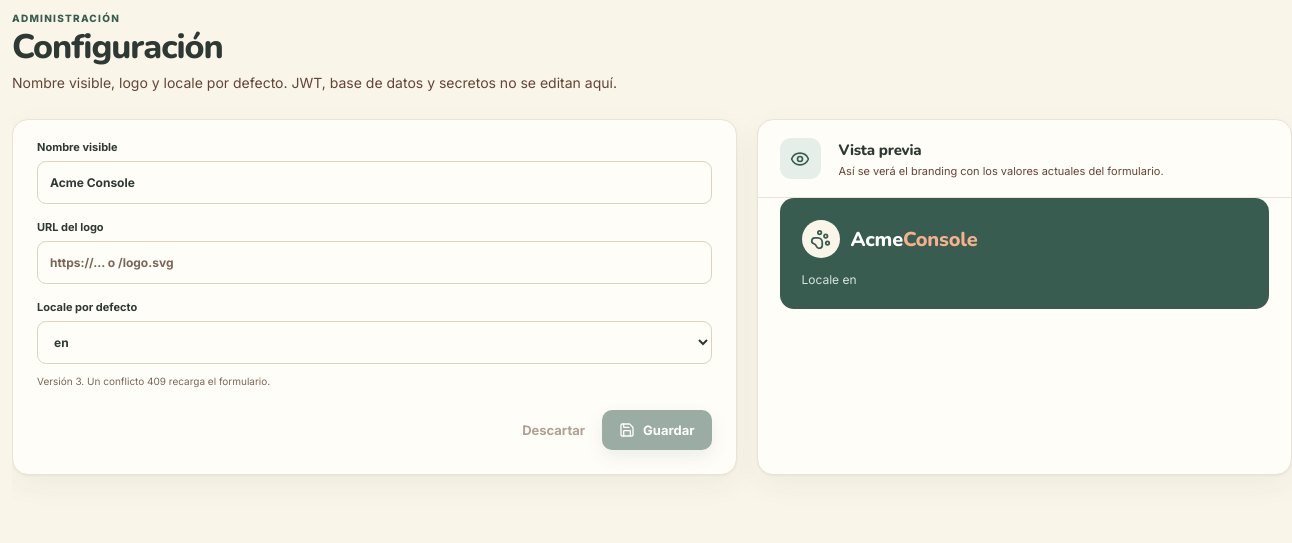
Scenario: GeneralSettingsPage › saves an update when the user can write
Replace the text in the field showing "Acme Console" with "Nueva" at (374, 183), box [37,161,712,204]
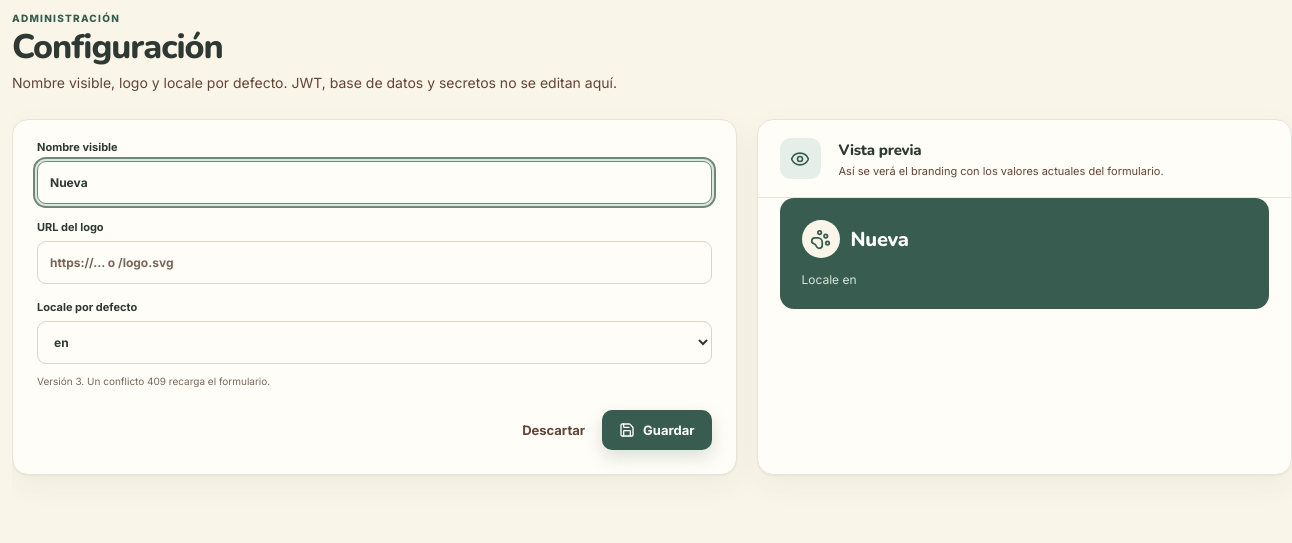
Click the button "Guardar" at (657, 430), box [602,410,712,450]
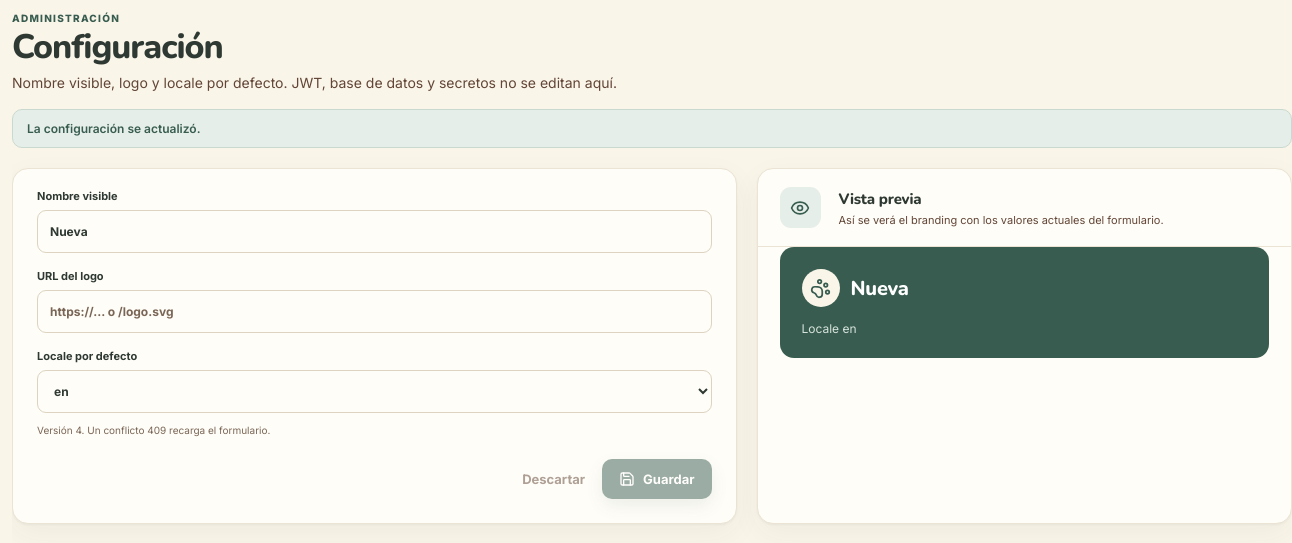
Expected: the text "La configuración se actualizó." is shown, [12,109,1291,148]
